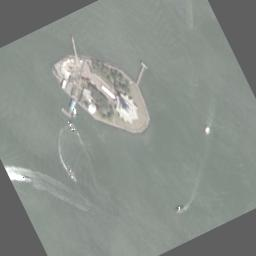boat: (66, 118, 78, 134), (200, 123, 212, 135), (66, 168, 76, 182), (68, 105, 79, 117), (174, 204, 185, 212), (24, 174, 32, 182)
